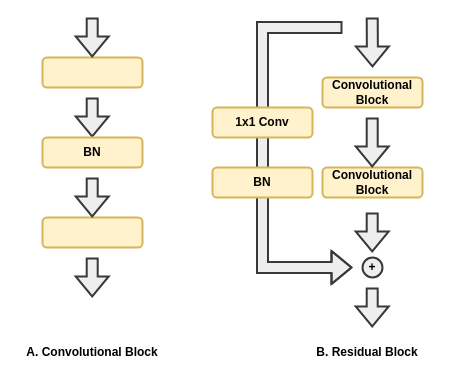
This 459x385 diagram has some shape labels left out. Each missing label, with the centre of its shape:
"3x3 Conv" belongs at [92,72].
"ReLU" belongs at [92,232].
